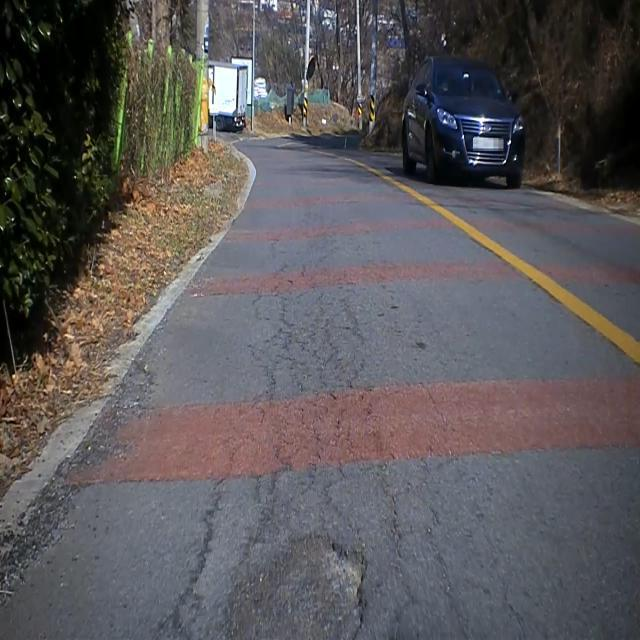pothole: (216, 513, 379, 640)
